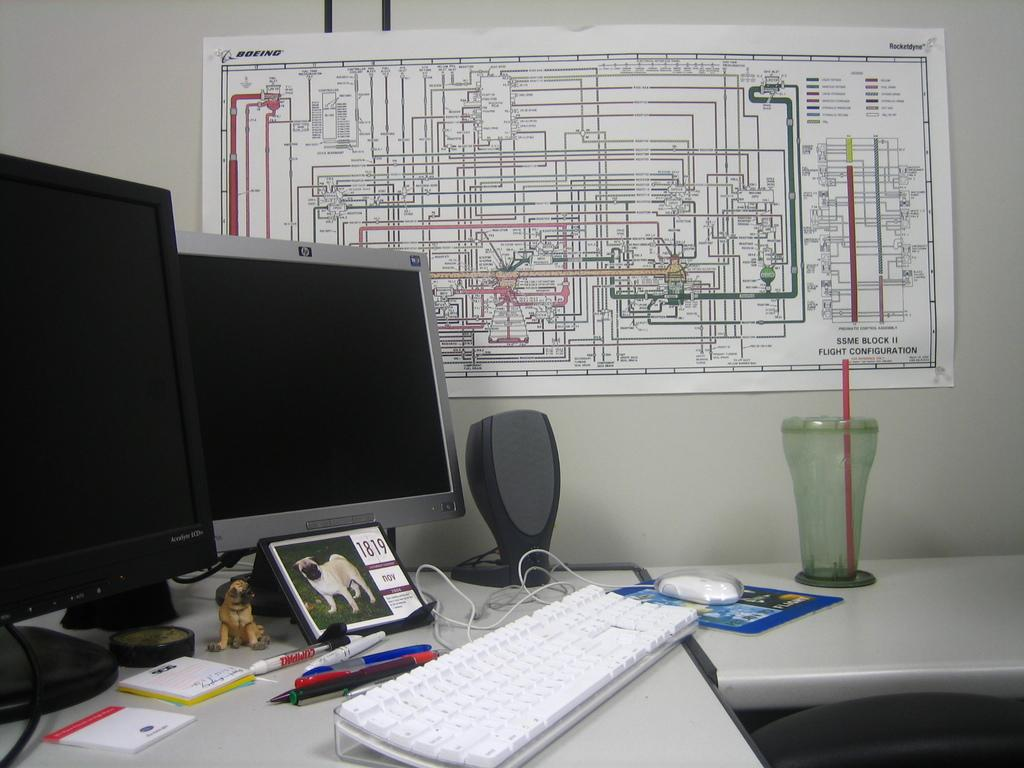Computer-keyboard: (332, 564, 703, 767)
Computer-monitor: (0, 150, 218, 733), (118, 238, 465, 598)
